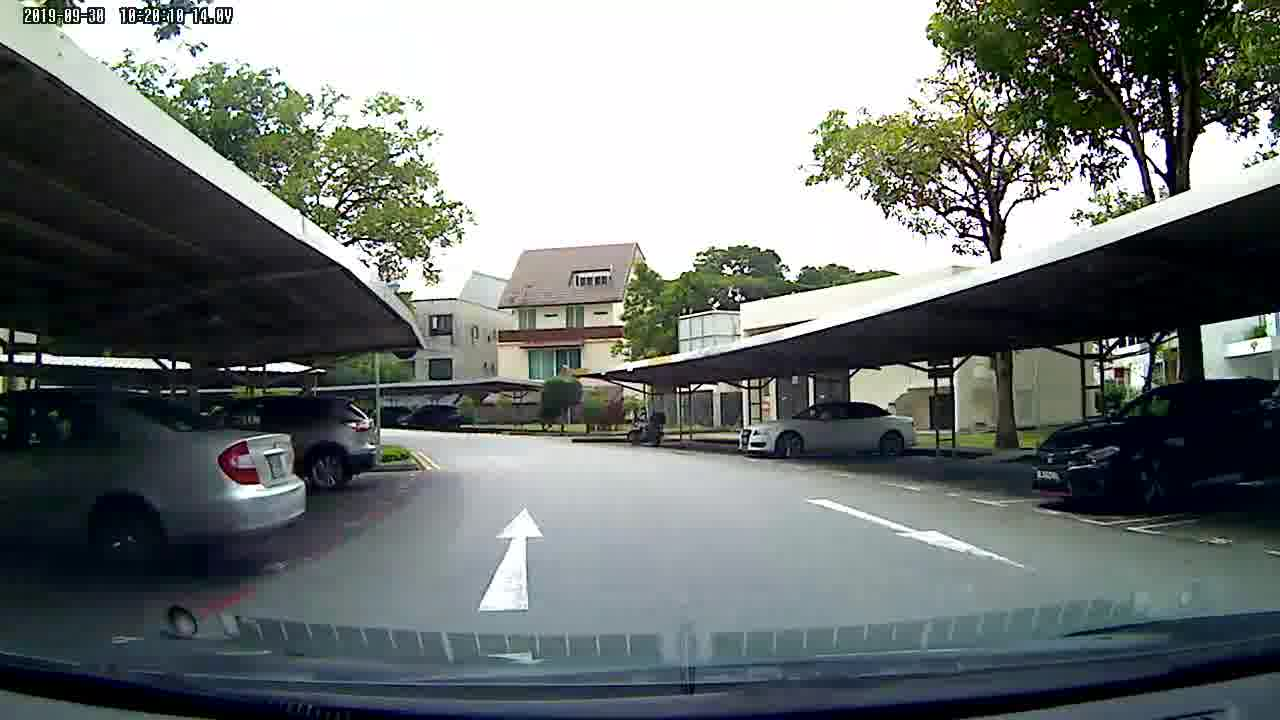car: (1, 372, 318, 586), (1027, 377, 1280, 510), (737, 399, 925, 470)
